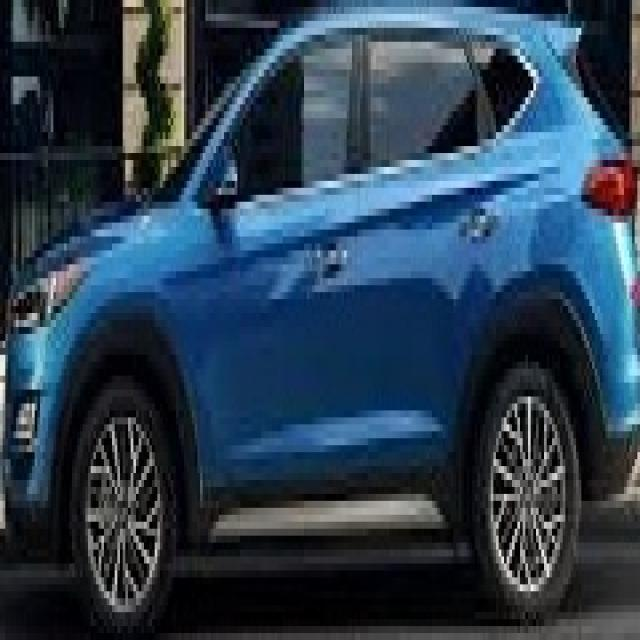blue: (5, 0, 640, 633)
